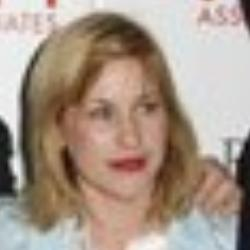face: (14, 7, 207, 234)
